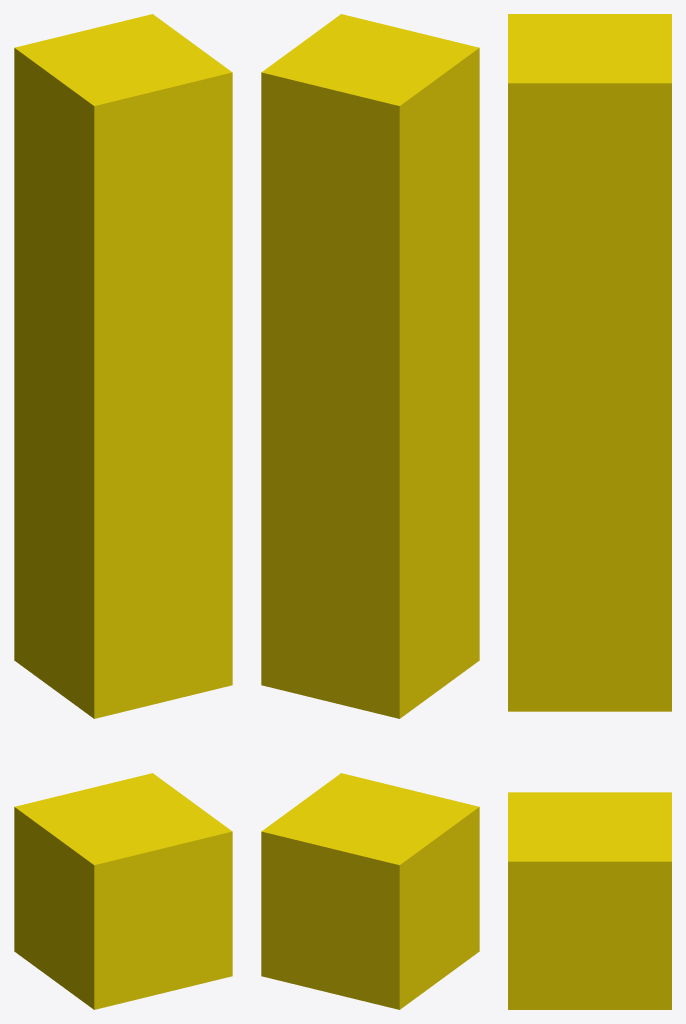
The model's file is QuestTile.fbx.
The picture shows the model from 3 angles, left to right: view 1: azimuth 30°, elevation 25°; view 2: azimuth 150°, elevation 25°; view 3: azimuth 270°, elevation 25°; orthographic projection. The views are drawn at different scales.
Parts seen in each view (by area): view 1: Cube; view 2: Cube; view 3: Cube.
Part boxes in pixels (box(x1,y1,x2,y2)): Cube: box(14, 14, 232, 1009); Cube: box(261, 14, 479, 1009); Cube: box(508, 14, 671, 1009).
Bounding box in the file's own units: 200 × 1249 × 200.
